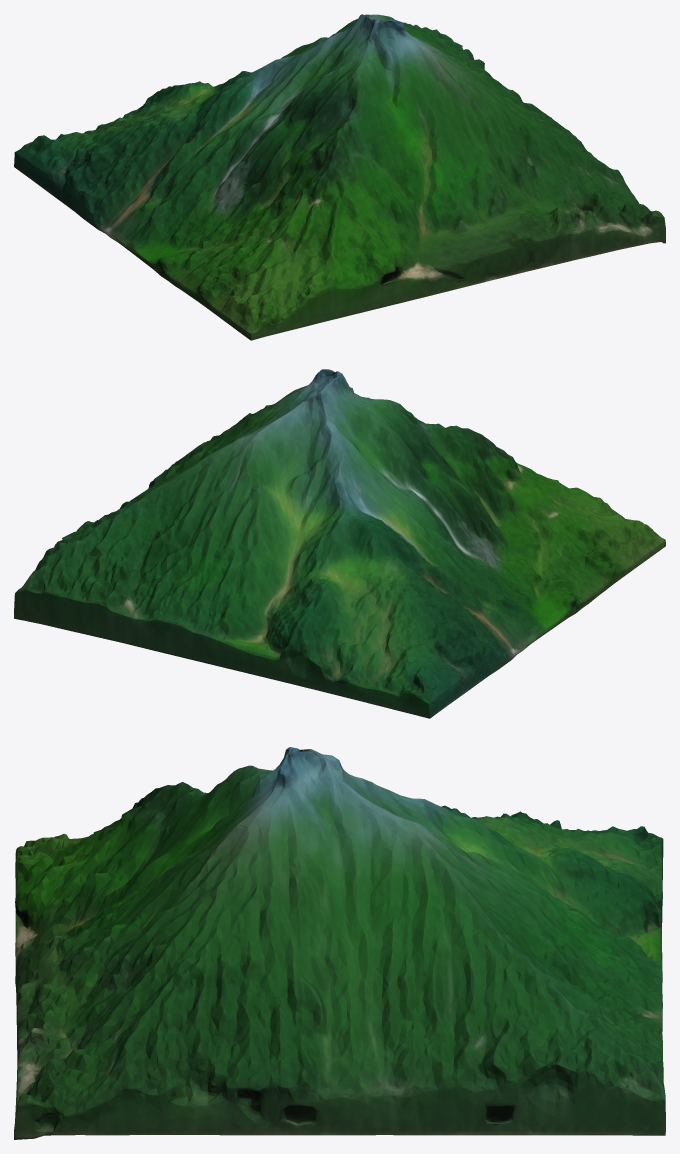
The model's file is namquocsonhanui.glb.
The picture shows the model from 3 angles, top to bottom: view 1: azimuth 30°, elevation 25°; view 2: azimuth 150°, elevation 25°; view 3: azimuth 270°, elevation 25°; orthographic projection. The views are drawn at different scales.
Parts seen in each view (by area): view 1: world; view 2: world; view 3: world.
Part boxes in pixels (x1,y1,x2,y2): world: (14, 14, 665, 340); world: (14, 369, 665, 718); world: (14, 747, 665, 1139).
Bounding box in the file's own units: 1 × 0.4505 × 0.9939.
1 material, 1 textured.
